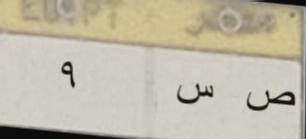9: (58, 55, 78, 94)
saad: (243, 85, 297, 118)
seen: (174, 76, 217, 110)
